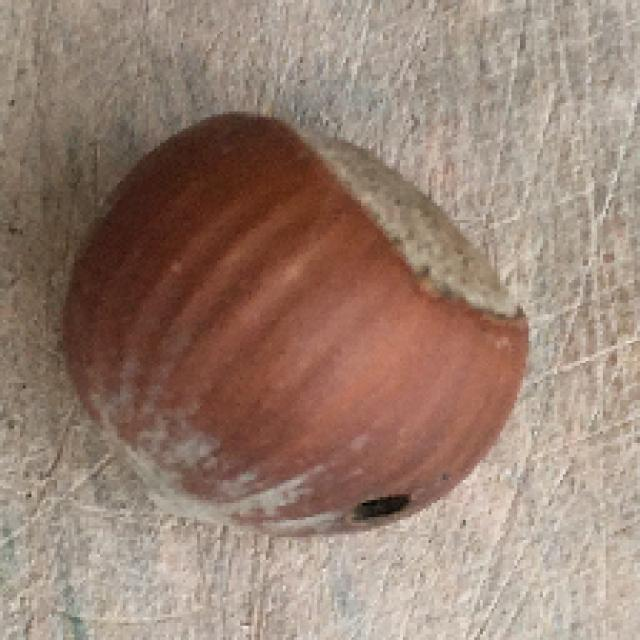DamagedHazelnut: (54, 114, 528, 541)
